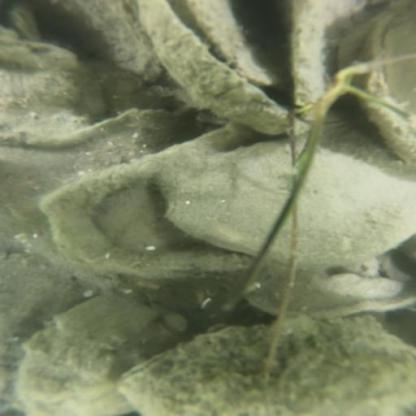Oyster- Indeterminate: (227, 274, 416, 321)
Oyster-Closed: (158, 138, 416, 266), (107, 316, 412, 416), (13, 293, 197, 416), (27, 0, 161, 89), (3, 29, 96, 136), (181, 2, 284, 91)
